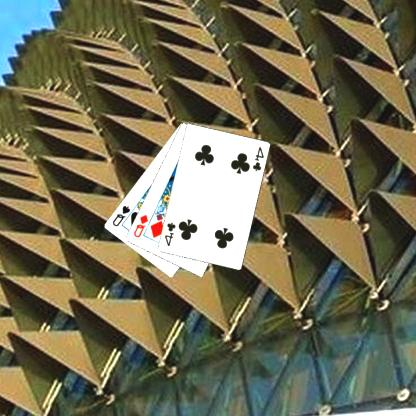4C: (252, 144, 266, 173), (164, 219, 178, 247)
QD: (133, 212, 151, 239)
QS: (112, 203, 133, 228)
